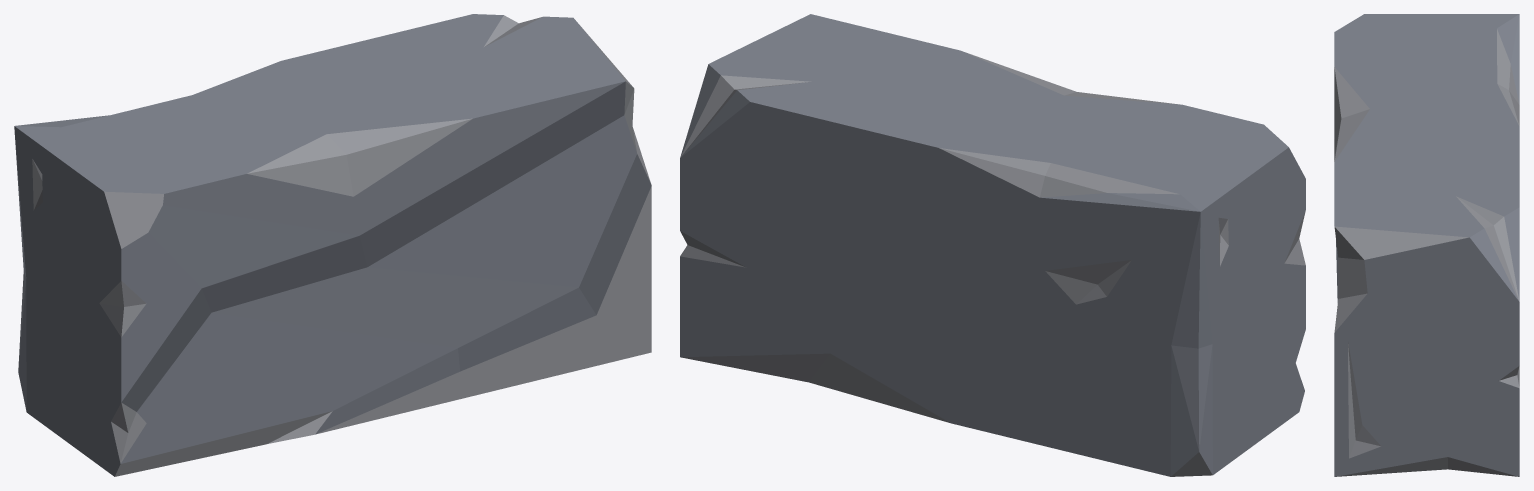
Rendered from mesh_brick_03.fbx.
3 views of the same model, side by side, from view 1: azimuth 30°, elevation 25°; view 2: azimuth 150°, elevation 25°; view 3: azimuth 270°, elevation 25° (orthographic). The views are drawn at different scales.
Parts seen in each view (by area): view 1: mesh_brick_03; view 2: mesh_brick_03; view 3: mesh_brick_03.
Part boxes in pixels (x1,y1,x2,y2): mesh_brick_03: [14, 14, 651, 476]; mesh_brick_03: [680, 14, 1305, 476]; mesh_brick_03: [1334, 14, 1519, 476].
Bounding box in the file's own units: 0.6 × 0.3 × 0.21.
